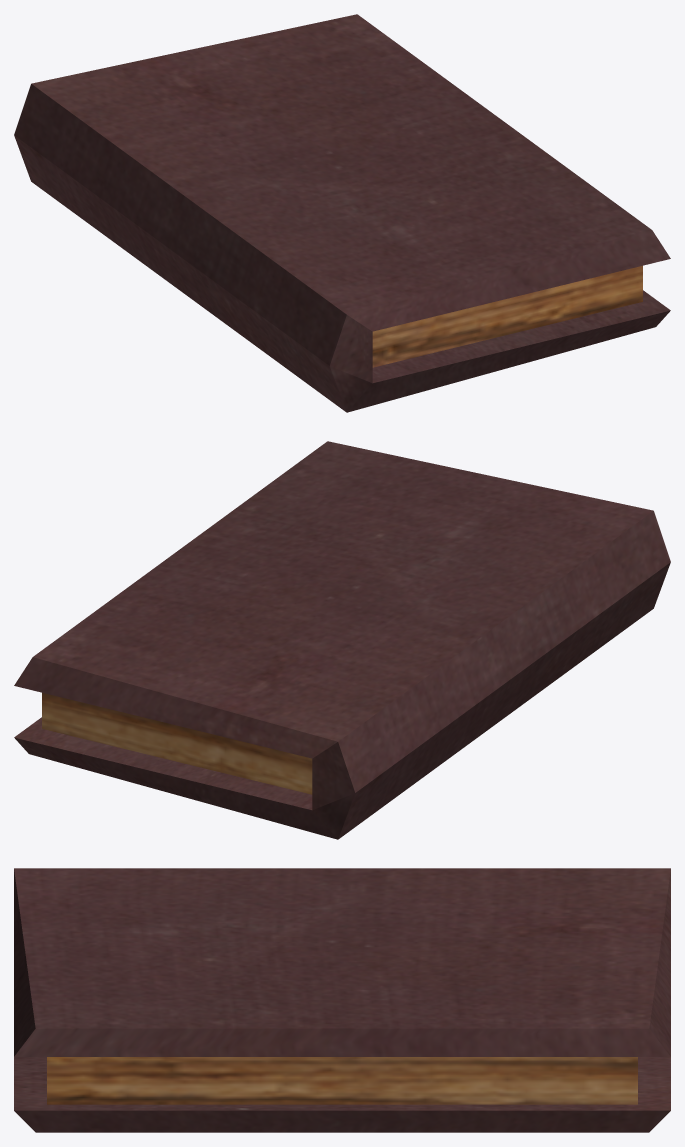
The model's file is bookClosed02.fbx.
3 views of the same model, one above another, from view 1: azimuth 30°, elevation 25°; view 2: azimuth 150°, elevation 25°; view 3: azimuth 270°, elevation 25° (orthographic). The views are drawn at different scales.
Parts seen in each view (by area): view 1: pCube8; view 2: pCube8; view 3: pCube8.
Boxes of the visible parts, <box> form: pCube8: <box>14,14,670,412</box>; pCube8: <box>14,441,670,839</box>; pCube8: <box>14,868,670,1132</box>.
Bounding box in the file's own units: 30.26 × 8.3 × 48.49.
